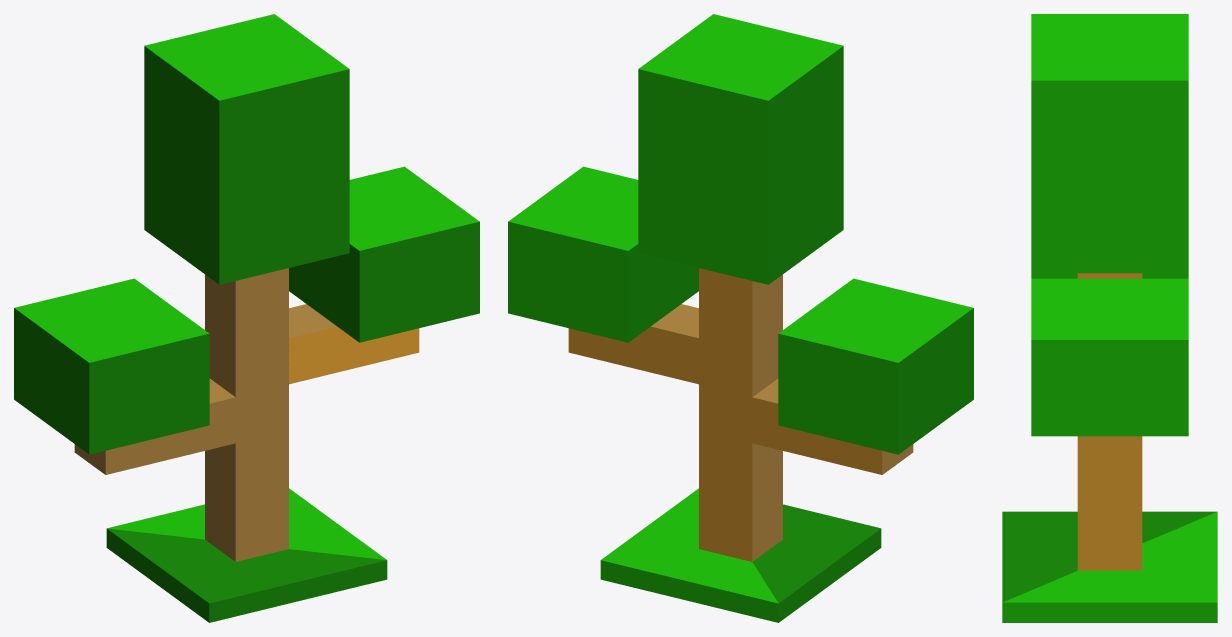
File: Trees_3.fbx
3 views of the same model, side by side, from view 1: azimuth 30°, elevation 25°; view 2: azimuth 150°, elevation 25°; view 3: azimuth 270°, elevation 25° (orthographic). The views are drawn at different scales.
Visible parts, largest first — view 1: Trees.3; view 2: Trees.3; view 3: Trees.3.
Part boxes in pixels (box(x1,y1,x2,y2)): Trees.3: box(14, 14, 479, 622); Trees.3: box(508, 14, 973, 622); Trees.3: box(1002, 14, 1217, 622).
Size of the model in its own units: 2.22 by 2.75 by 1.01.
Materials: 1 (1 with a texture image).
